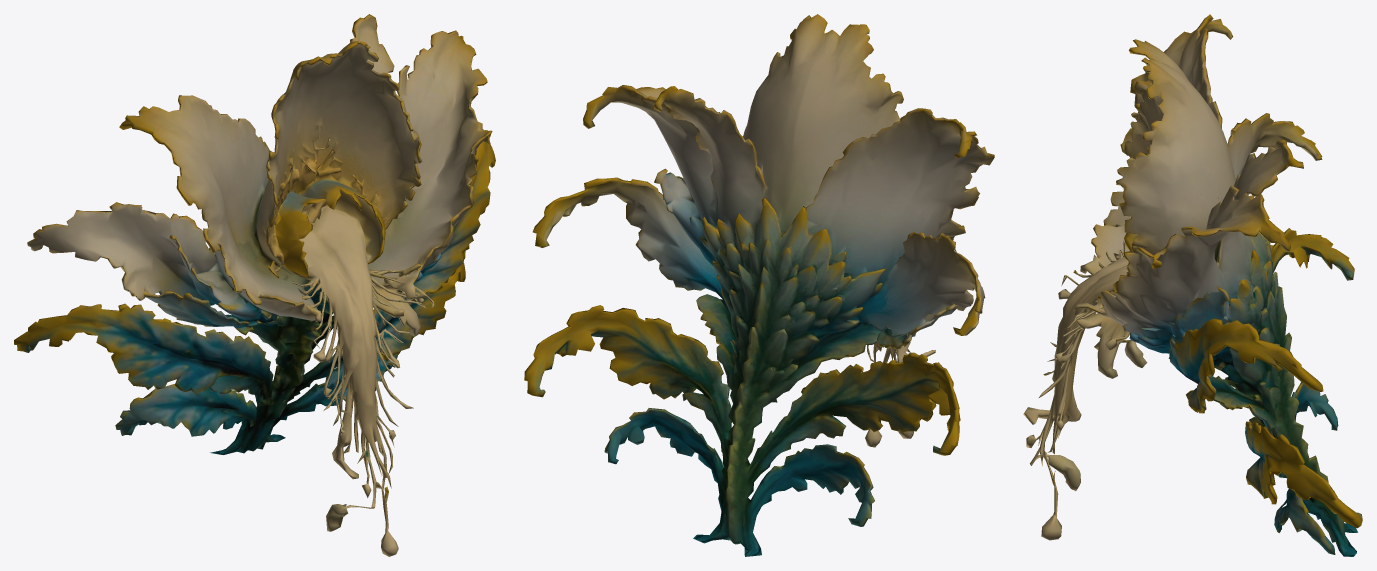
Rendered from botanical+flower+3d+model+1k.glb.
The picture shows the model from 3 angles, left to right: view 1: azimuth 30°, elevation 25°; view 2: azimuth 150°, elevation 25°; view 3: azimuth 270°, elevation 25°; orthographic projection. The views are drawn at different scales.
Parts seen in each view (by area): view 1: tripo_node_490e276b-10e6-4118-816a-d99b27fa7cca; view 2: tripo_node_490e276b-10e6-4118-816a-d99b27fa7cca; view 3: tripo_node_490e276b-10e6-4118-816a-d99b27fa7cca.
Part boxes in pixels (box(x1,y1,x2,y2)): tripo_node_490e276b-10e6-4118-816a-d99b27fa7cca: box(14, 14, 495, 556); tripo_node_490e276b-10e6-4118-816a-d99b27fa7cca: box(524, 14, 994, 556); tripo_node_490e276b-10e6-4118-816a-d99b27fa7cca: box(1023, 14, 1362, 556).
Size of the model in its own units: 1 by 0.9966 by 0.6275.
Materials: 1 (1 with a texture image).
